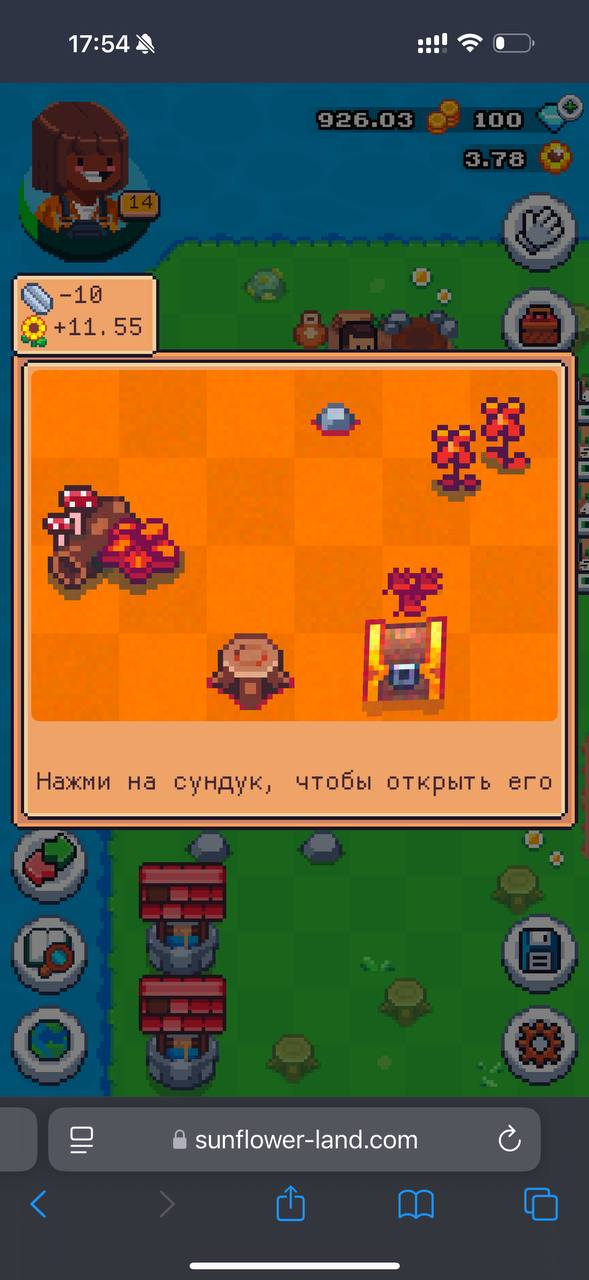capcha_chest: (360, 614, 447, 703)
